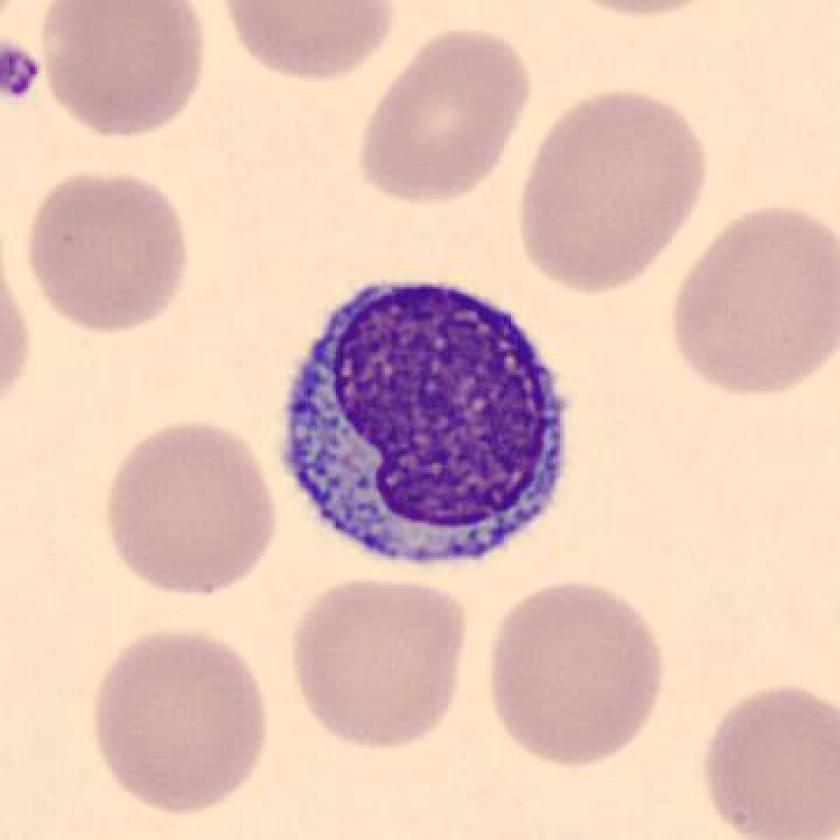lymphocyte: (267, 267, 584, 584)
